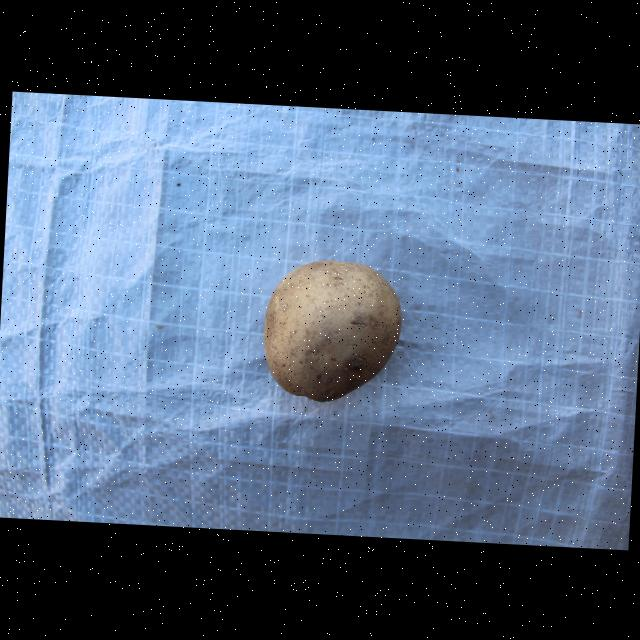Diseased-fungal potato: (256, 254, 407, 404)
